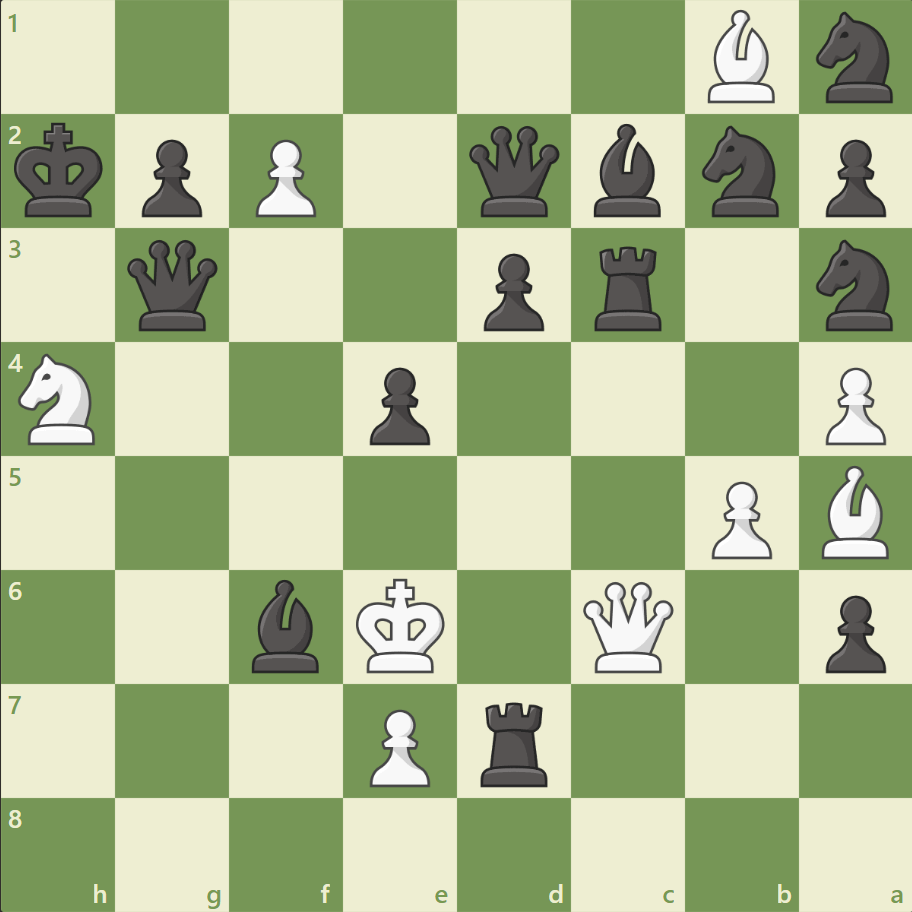B: (812, 460, 896, 563), (698, 6, 782, 109)
K: (351, 571, 451, 679)
N: (11, 348, 108, 450)
P: (701, 473, 776, 564), (247, 132, 322, 223), (361, 700, 435, 791), (815, 359, 889, 450)
Q: (578, 576, 677, 676)
b: (244, 574, 328, 676), (585, 120, 669, 222)
k: (11, 117, 111, 225)
n: (806, 234, 903, 337), (806, 7, 903, 110), (692, 121, 789, 223)
p: (474, 246, 549, 337), (133, 132, 208, 223), (815, 586, 889, 677), (361, 359, 435, 450), (815, 132, 889, 223)
q: (464, 122, 563, 222), (124, 236, 223, 335)
r: (473, 693, 556, 790), (587, 239, 670, 336)
